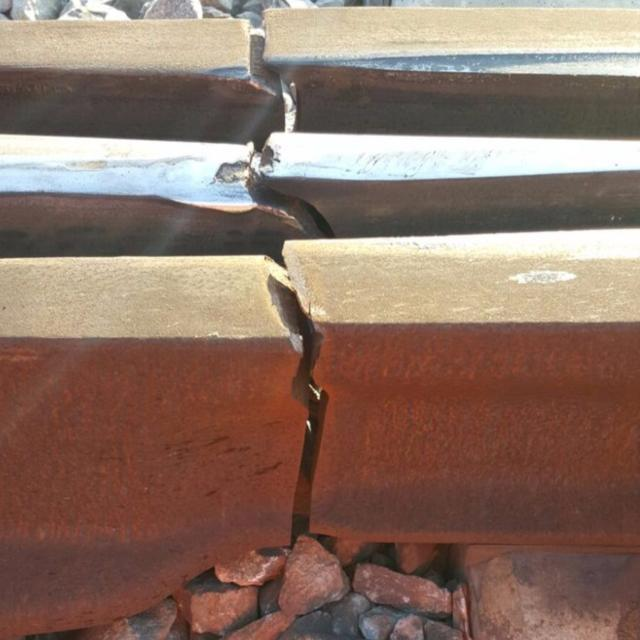broken_rail_high: (247, 243, 345, 558)
